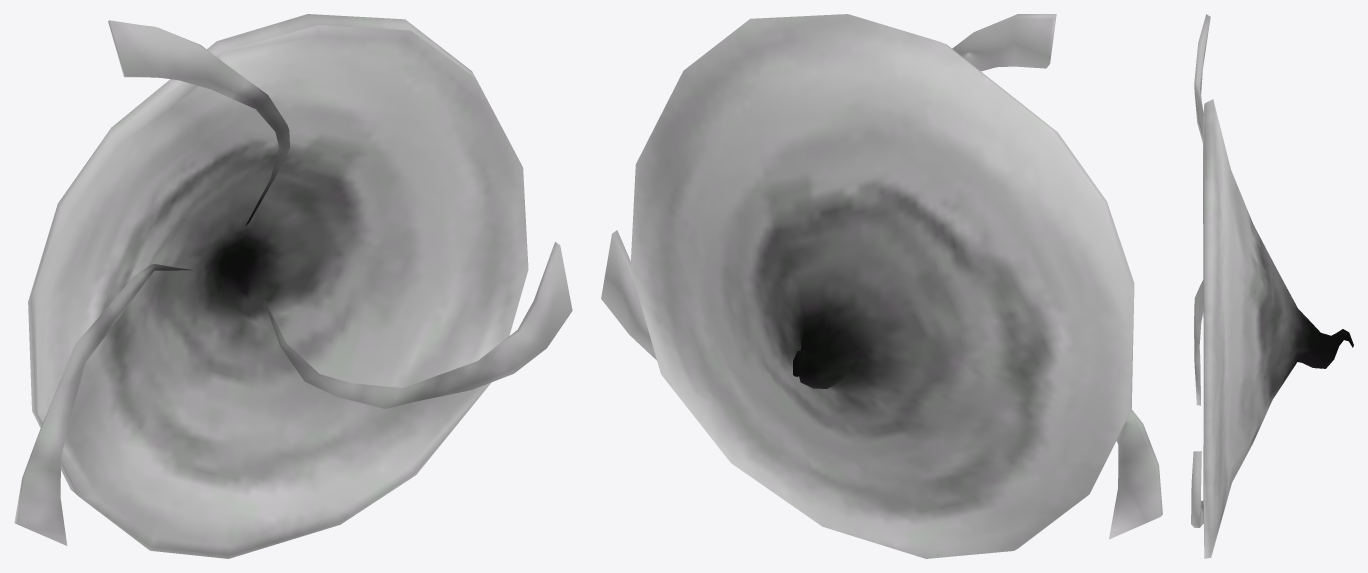
The picture shows the model from 3 angles, left to right: view 1: azimuth 30°, elevation 25°; view 2: azimuth 150°, elevation 25°; view 3: azimuth 270°, elevation 25°; orthographic projection. The views are drawn at different scales.
Parts seen in each view (by area): view 1: CMDL_3F8189E0; view 2: CMDL_3F8189E0; view 3: CMDL_3F8189E0.
Boxes of the visible parts, x1=… form: CMDL_3F8189E0: x1=14, y1=14, x2=572, y2=558; CMDL_3F8189E0: x1=601, y1=14, x2=1162, y2=558; CMDL_3F8189E0: x1=1191, y1=14, x2=1353, y2=558.
Size of the model in its own units: 4.56 by 4.47 by 1.45.
1 material, 1 textured.
